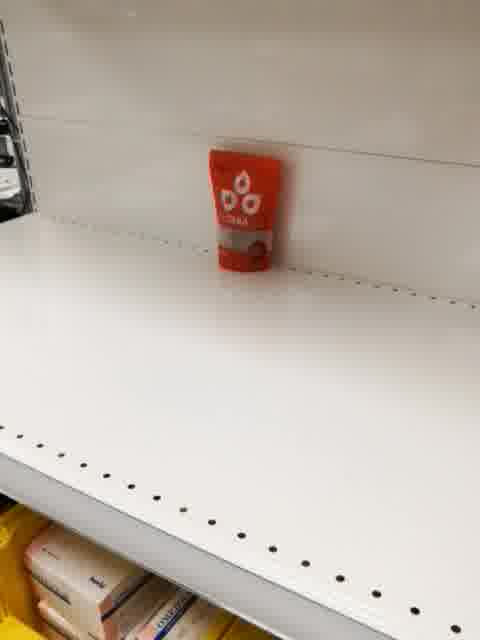whitechia: (207, 146, 286, 276)
